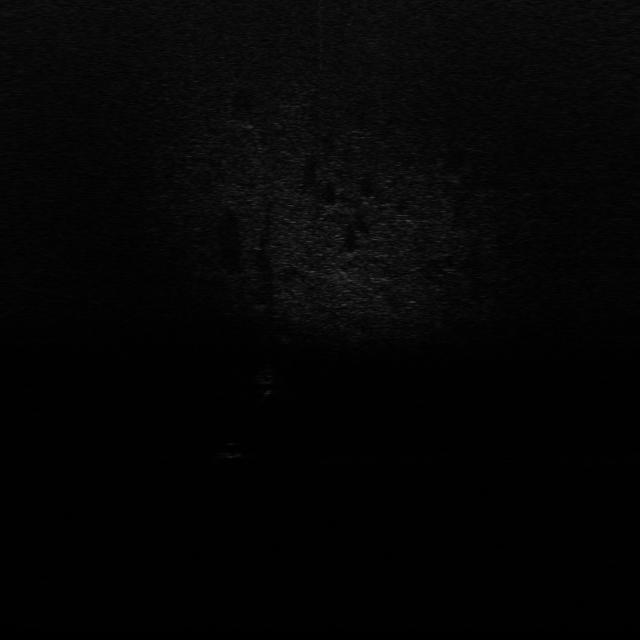ball: (219, 441, 247, 462)
human body: (257, 361, 278, 406)
